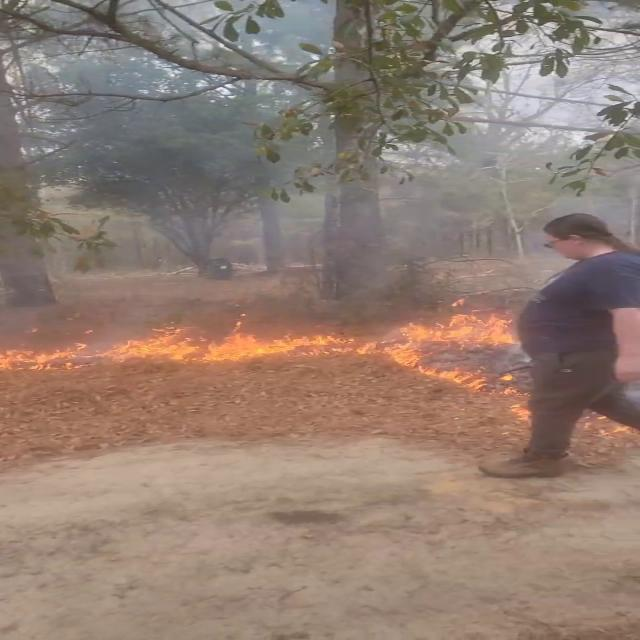Fire: (18, 314, 528, 366)
Smoke: (6, 1, 628, 309)
